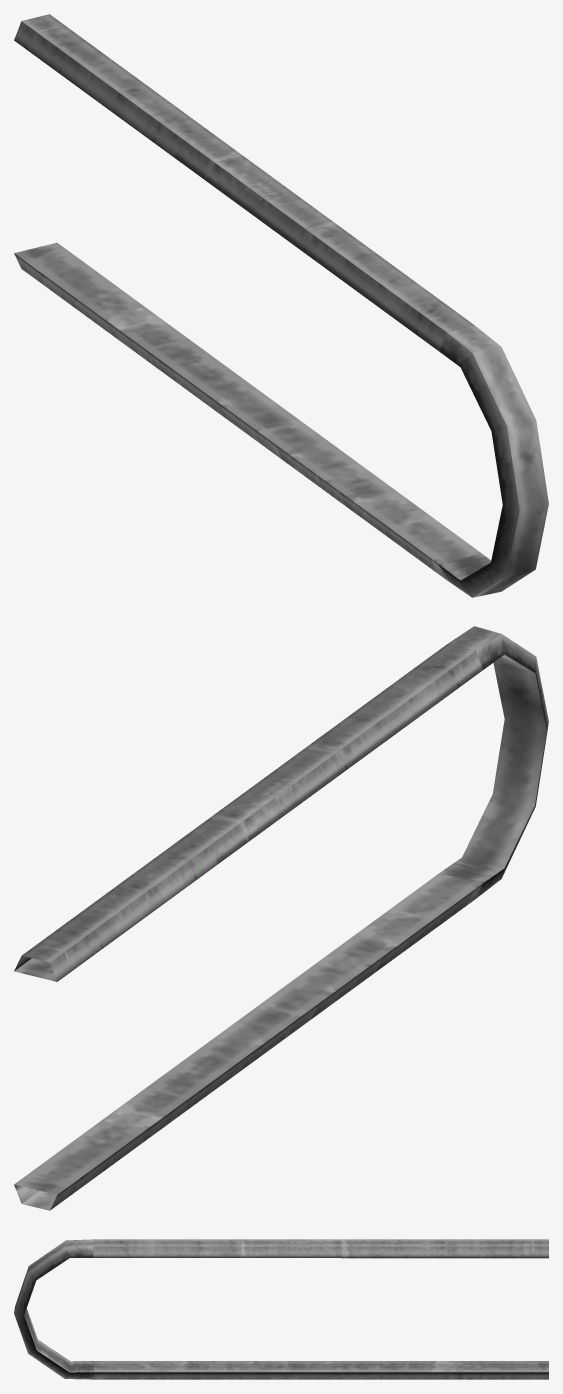
The model's file is lab_bracket_long.dae.
3 renders of one model, top to bottom at view 1: azimuth 30°, elevation 25°; view 2: azimuth 150°, elevation 25°; view 3: azimuth 270°, elevation 25°, orthographic. The views are drawn at different scales.
Parts seen in each view (by area): view 1: bracked_long; view 2: bracked_long; view 3: bracked_long.
Part boxes in pixels (box(x1,y1,x2,y2)): bracked_long: box(14, 14, 548, 597); bracked_long: box(14, 626, 548, 1210); bracked_long: box(14, 1239, 548, 1379).
Size of the model in its own units: 0.0292 by 0.1599 by 0.584.
